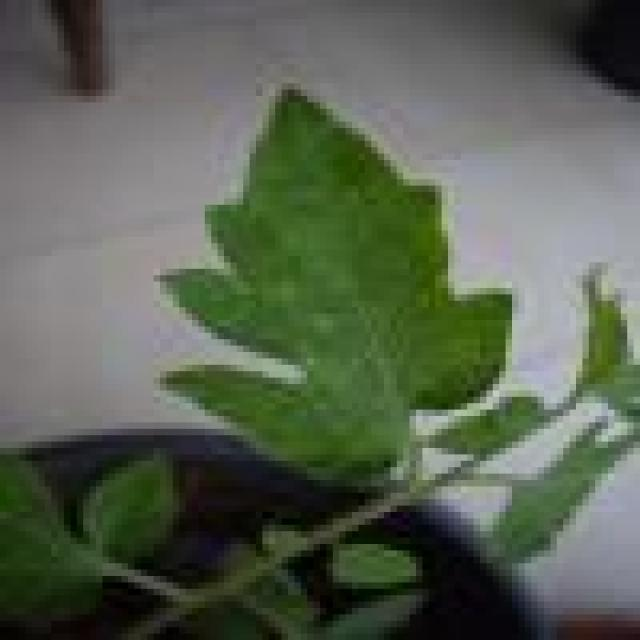Leaf Mold: (149, 71, 520, 481)
